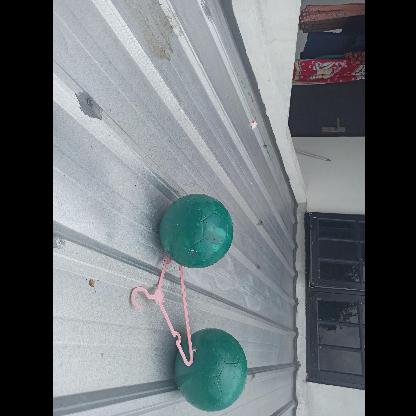green_ball: (170, 330, 254, 413), (158, 194, 235, 272)
